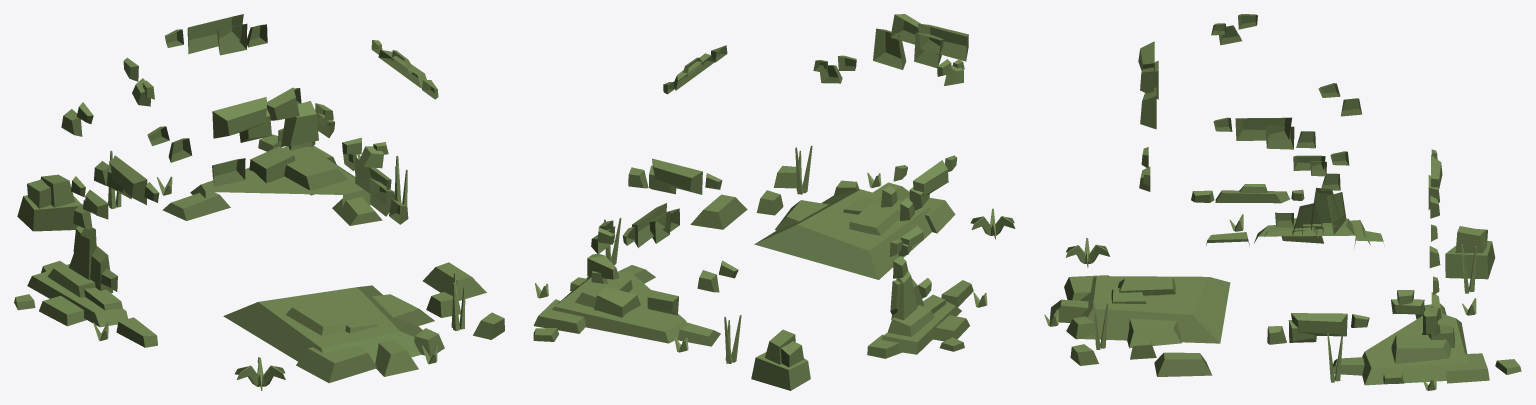
Rendered from SA_Bld_OfficeGrey_Growth_01.gltf.
3 renders of one model, left to right at view 1: azimuth 30°, elevation 25°; view 2: azimuth 150°, elevation 25°; view 3: azimuth 270°, elevation 25°, orthographic. The views are drawn at different scales.
Visible parts, largest first — view 1: SA_Bld_OfficeGrey_Growth_01; view 2: SA_Bld_OfficeGrey_Growth_01; view 3: SA_Bld_OfficeGrey_Growth_01.
Boxes of the visible parts, x1,y1,x2,y2 form: SA_Bld_OfficeGrey_Growth_01: [14, 14, 504, 390]; SA_Bld_OfficeGrey_Growth_01: [533, 14, 1015, 390]; SA_Bld_OfficeGrey_Growth_01: [1044, 14, 1521, 390].
Size of the model in its own units: 20.04 by 12.37 by 22.9.
Materials: 1 (1 with a texture image).
